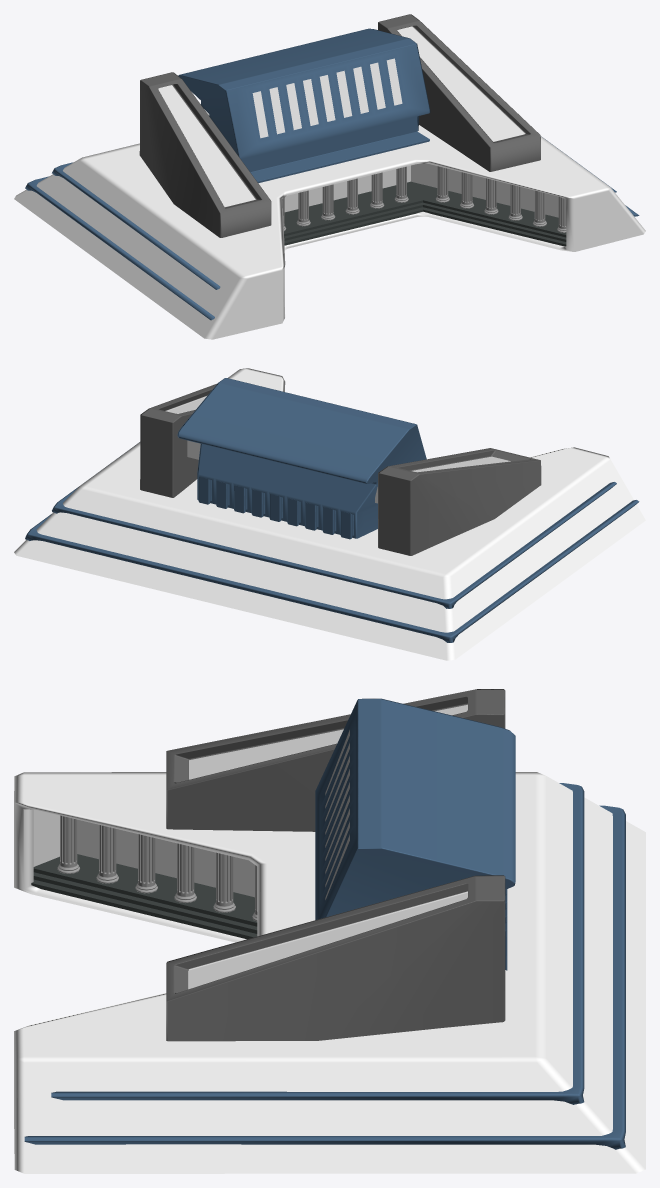
File: GBL Main Building Unity Ready.fbx
3 renders of one model, top to bottom at view 1: azimuth 30°, elevation 25°; view 2: azimuth 150°, elevation 25°; view 3: azimuth 270°, elevation 25°, orthographic. The views are drawn at different scales.
Visible parts, largest first — view 1: Cube.017, Cube.004, Cube.013, Cylinder.007, Cube.006, Cylinder.010, Cylinder.011, Cube.007, Cube.021; view 2: Cube.017, Cube.004, Cube.013, Cube.006, Cube.007, Cube.021; view 3: Cube.017, Cube.006, Cube.004, Cube.013, Cylinder.007, Cube.007, Cube.021, Cylinder.009.
Part boxes in pixels (left/top/right/bottom): Cube.017: left=14, top=125, right=645, bottom=339; Cube.004: left=178, top=28, right=430, bottom=183; Cube.013: left=139, top=72, right=271, bottom=237; Cylinder.007: left=284, top=164, right=566, bottom=246; Cube.006: left=378, top=14, right=540, bottom=171; Cylinder.010: left=435, top=166, right=566, bottom=232; Cylinder.011: left=282, top=166, right=408, bottom=230; Cube.007: left=25, top=176, right=639, bottom=320; Cube.021: left=52, top=136, right=616, bottom=289; Cube.017: left=14, top=368, right=645, bottom=660; Cube.004: left=177, top=378, right=426, bottom=539; Cube.013: left=378, top=448, right=541, bottom=555; Cube.006: left=140, top=383, right=217, bottom=497; Cube.007: left=25, top=500, right=639, bottom=642; Cube.021: left=52, top=442, right=616, bottom=608; Cube.017: left=14, top=772, right=645, bottom=1173; Cube.006: left=166, top=875, right=505, bottom=1041; Cube.004: left=315, top=698, right=515, bottom=970; Cube.013: left=166, top=689, right=505, bottom=831; Cylinder.007: left=31, top=809, right=257, bottom=939; Cube.007: left=24, top=805, right=625, bottom=1149; Cube.021: left=51, top=783, right=584, bottom=1104; Cylinder.009: left=57, top=815, right=257, bottom=921.
Bounding box in the file's own units: 10982 × 3417 × 8484.
